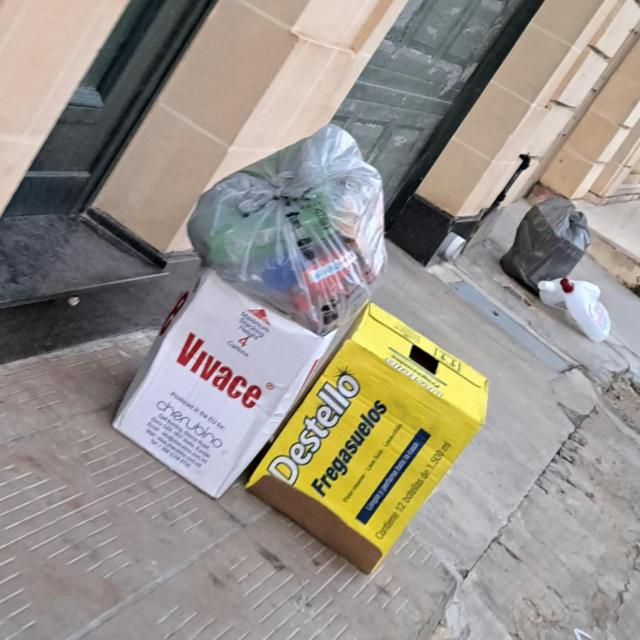Mixed Waste -Black Bag-: (504, 199, 593, 296)
Other: (247, 303, 492, 578), (112, 258, 338, 504), (537, 276, 613, 345)
Recycled Waste -Grey or Green Bag-: (191, 126, 391, 335)
